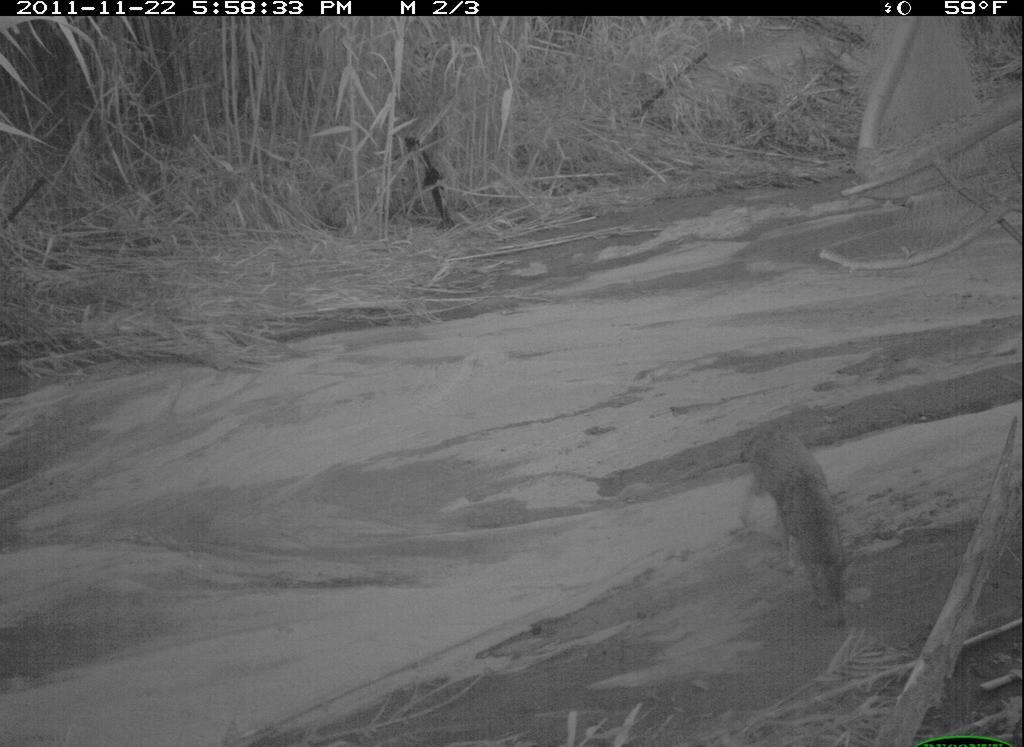coyote: (738, 419, 865, 630)
